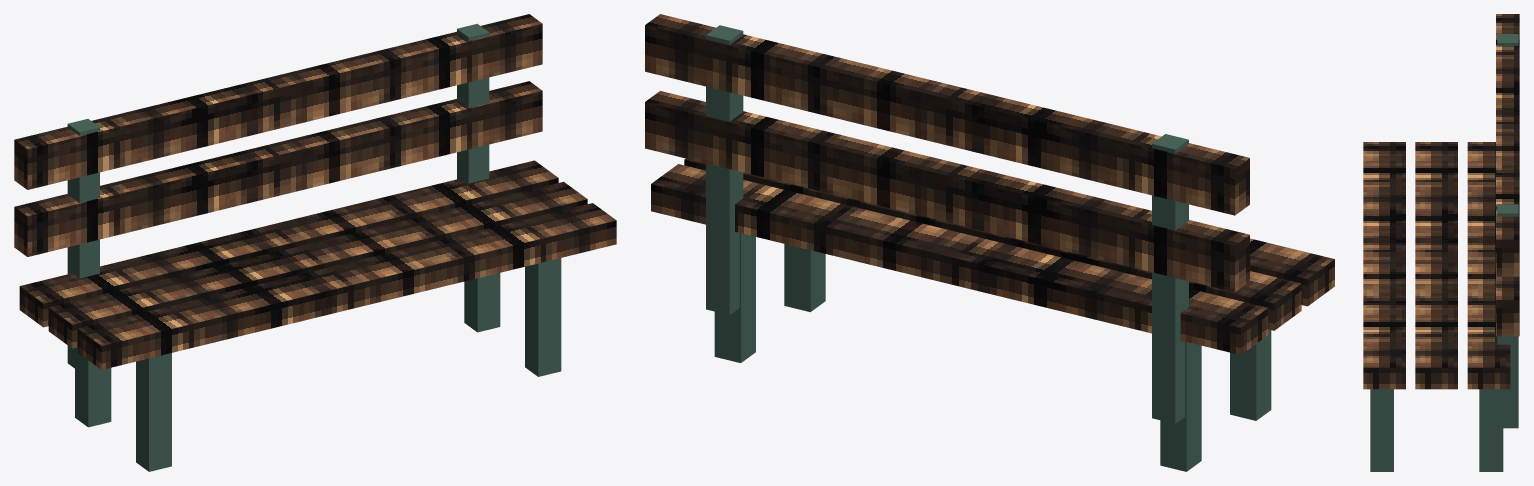
Rendered from bench.glb.
3 renders of one model, left to right at view 1: azimuth 30°, elevation 25°; view 2: azimuth 150°, elevation 25°; view 3: azimuth 270°, elevation 25°, orthographic. The views are drawn at different scales.
Parts seen in each view (by area): view 1: bench_p9_wood, bench_p9_iron; view 2: bench_p9_wood, bench_p9_iron; view 3: bench_p9_wood, bench_p9_iron.
Boxes of the visible parts, x1,y1,x2,y2 form: bench_p9_wood: [14, 14, 616, 369]; bench_p9_iron: [67, 23, 561, 471]; bench_p9_wood: [645, 14, 1334, 354]; bench_p9_iron: [706, 25, 1271, 471]; bench_p9_wood: [1363, 14, 1519, 389]; bench_p9_iron: [1370, 34, 1518, 471].
Bounding box in the file's own units: 2.25 × 1.2 × 0.66.
Materials: 2 (1 with a texture image).
